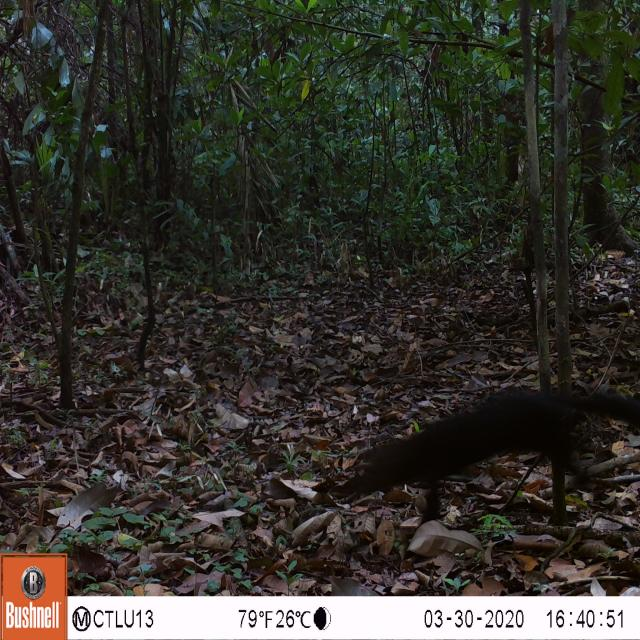Tayra: (335, 372, 640, 520)
